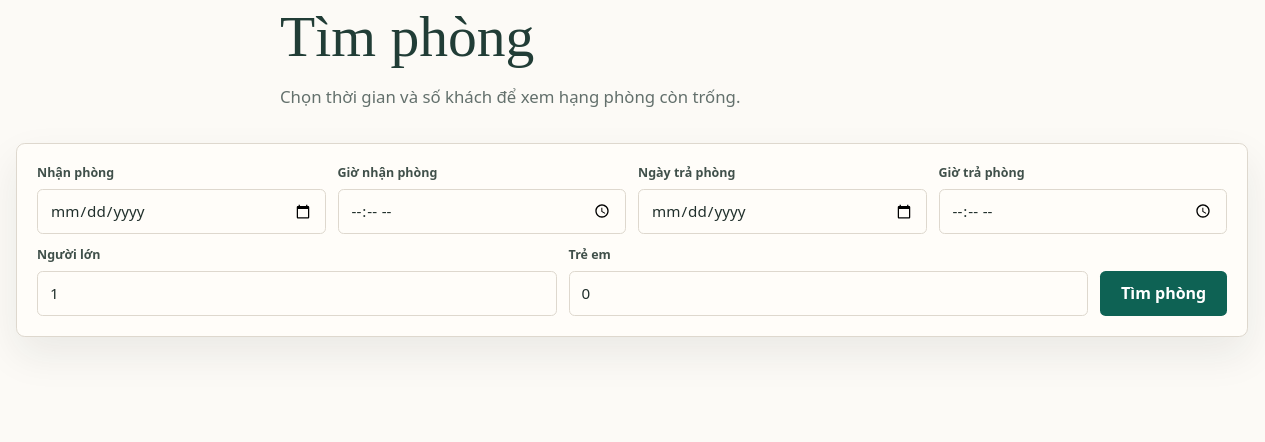
Scenario: public booking entry › rejects a past interval before requesting availability
Type "2020-04-10" into the date field with test id "availability-check-in-date" at (181, 211), box [37,189,326,234]
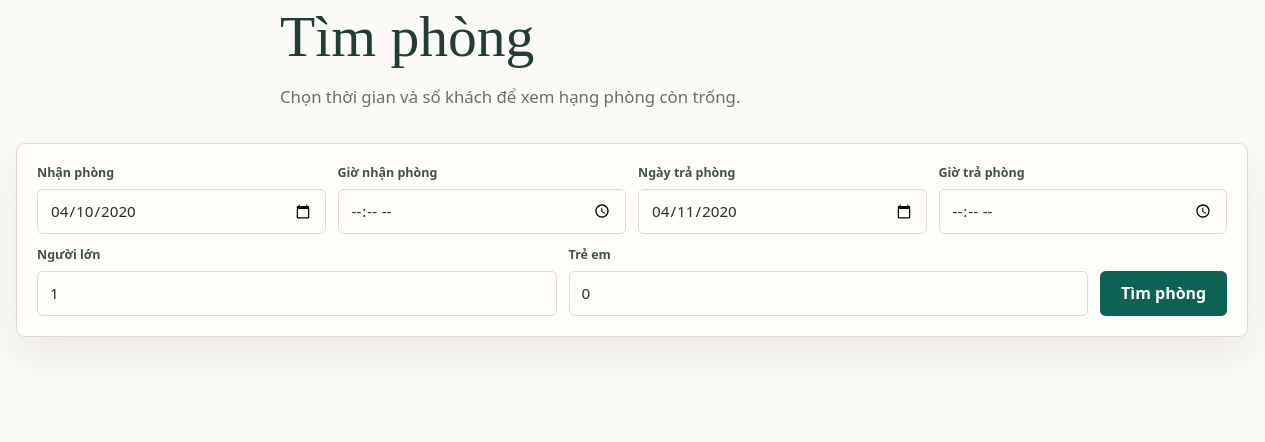
Type "10:00" into the time field with test id "availability-check-in-time" at (482, 211), box [338,189,626,234]
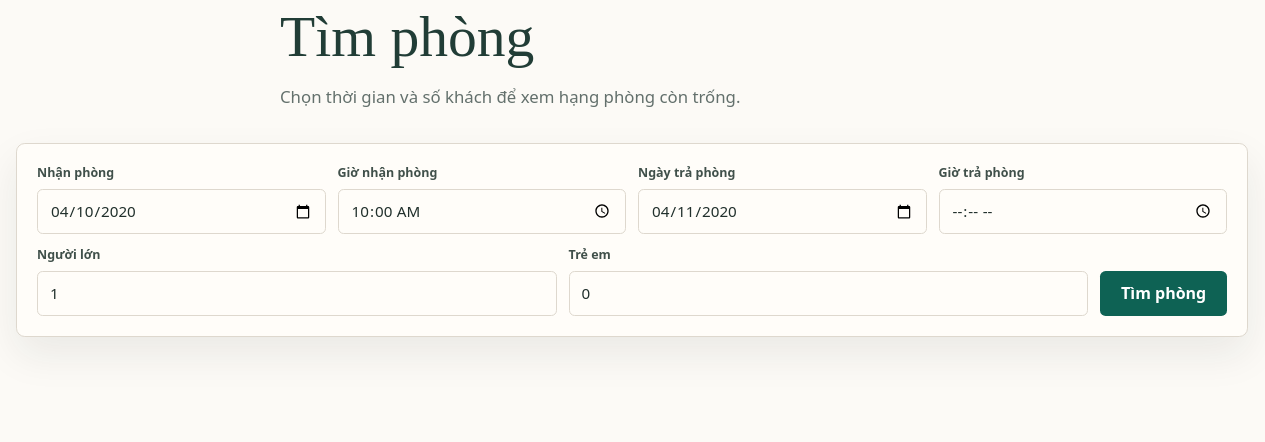
Type "2020-04-10" into the date field with test id "availability-check-out-date" at (782, 211), box [638,189,926,234]
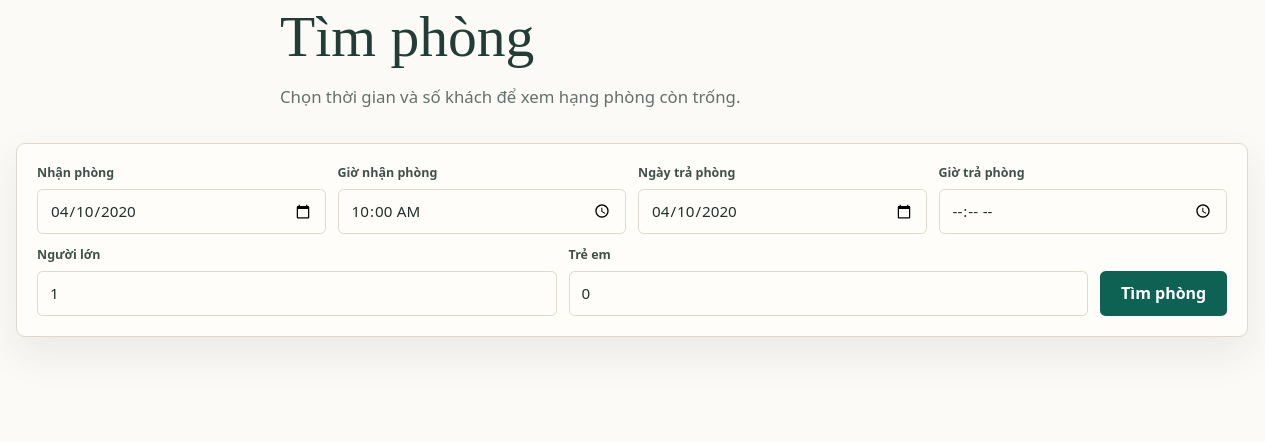
Type "13:00" into the time field with test id "availability-check-out-time" at (1083, 211), box [938,189,1227,234]
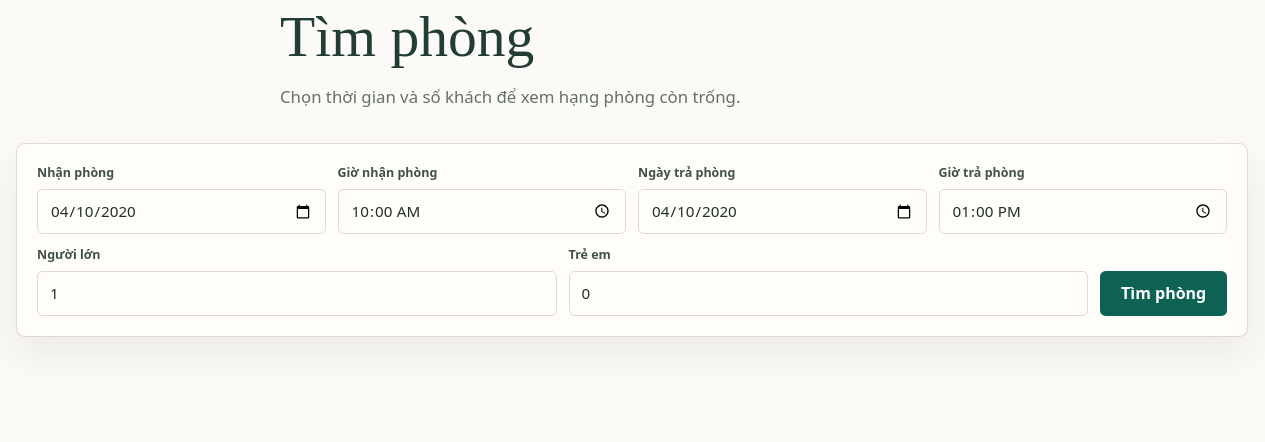
Click the button with test id "availability-submit" at (1164, 293), box [1100,271,1227,316]
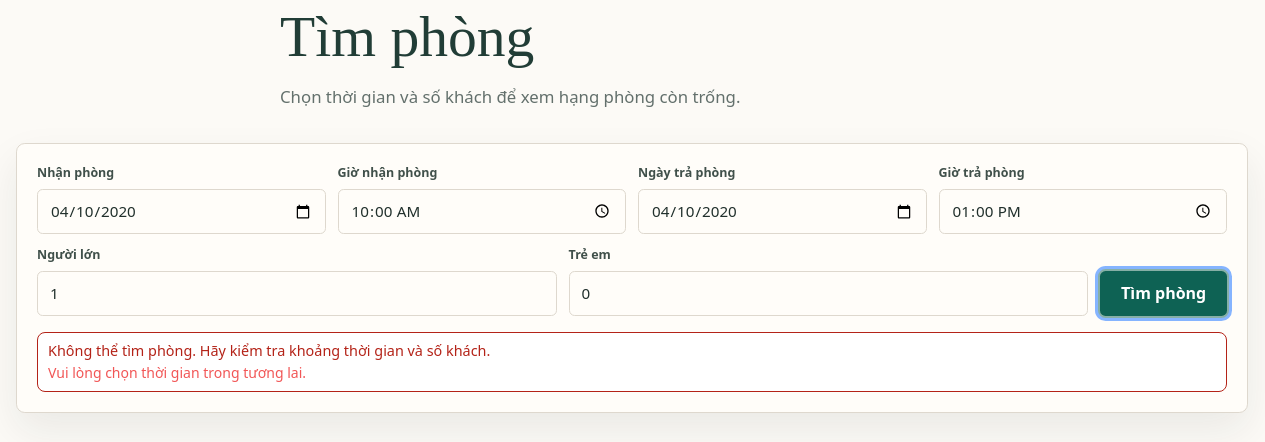
Check: the message is shown, box [37,332,1227,392]
